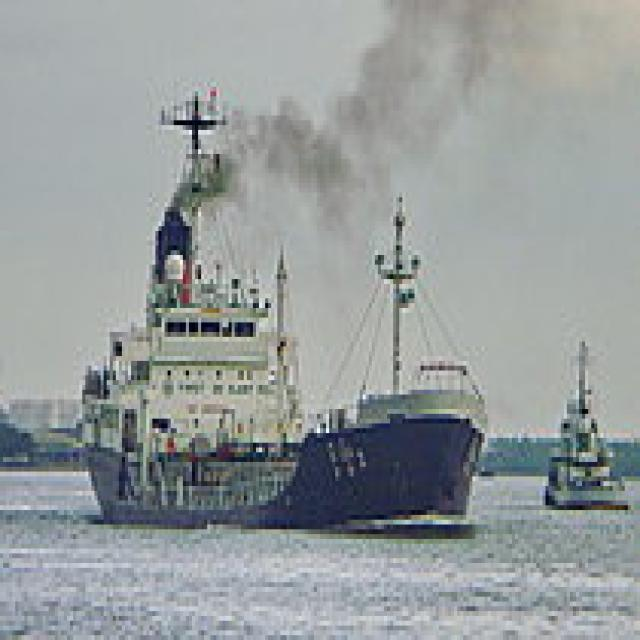Tanker: (70, 62, 491, 524)
